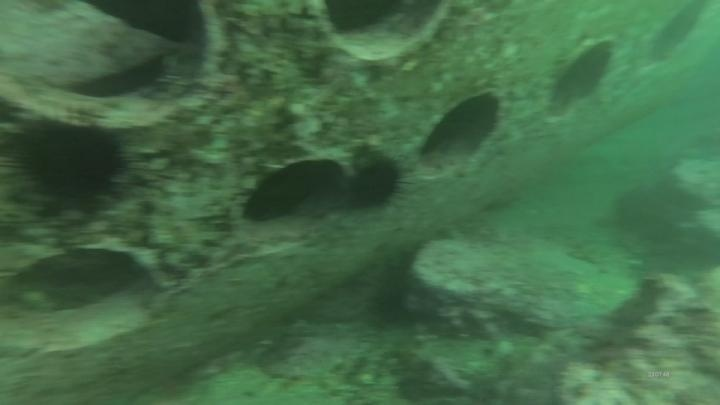echinus: (7, 115, 132, 216), (341, 151, 409, 215)
